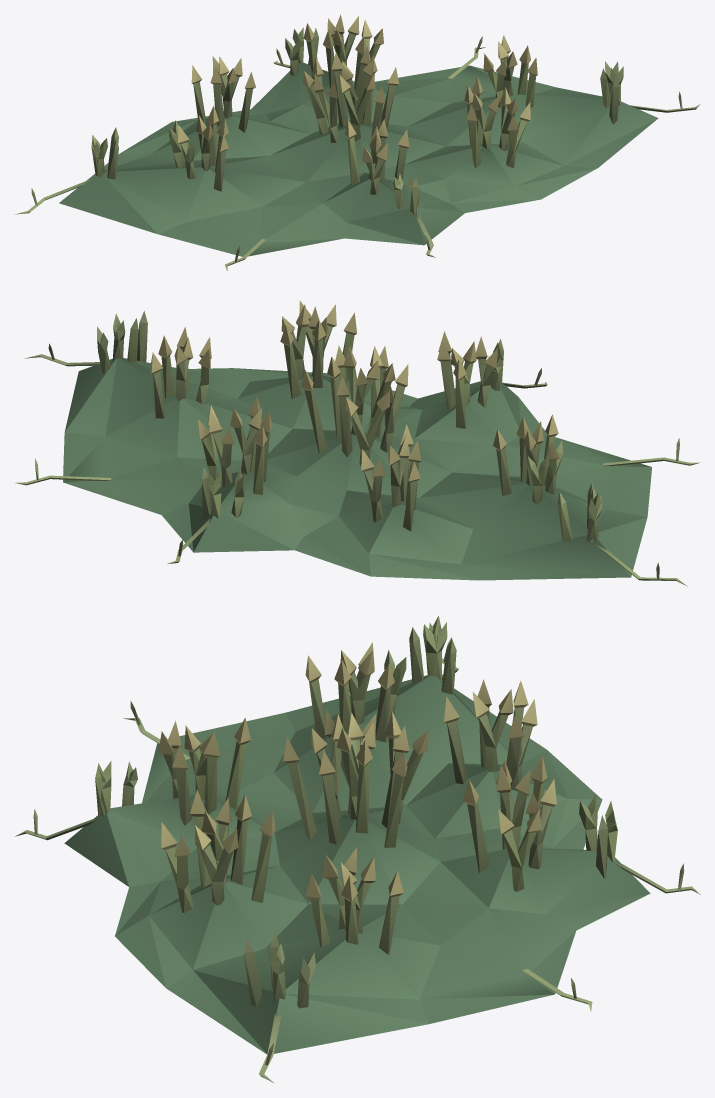
File: moss.glb
3 views of the same model, one above another, from view 1: azimuth 30°, elevation 25°; view 2: azimuth 150°, elevation 25°; view 3: azimuth 270°, elevation 25° (orthographic). The views are drawn at different scales.
Visible parts, largest first — view 1: moss; view 2: moss; view 3: moss.
Part boxes in pixels (<box>): moss: <box>14,14,700,270</box>; moss: <box>15,300,699,586</box>; moss: <box>15,616,700,1083</box>.
Size of the model in its own units: 2.4 by 0.3812 by 1.6.
